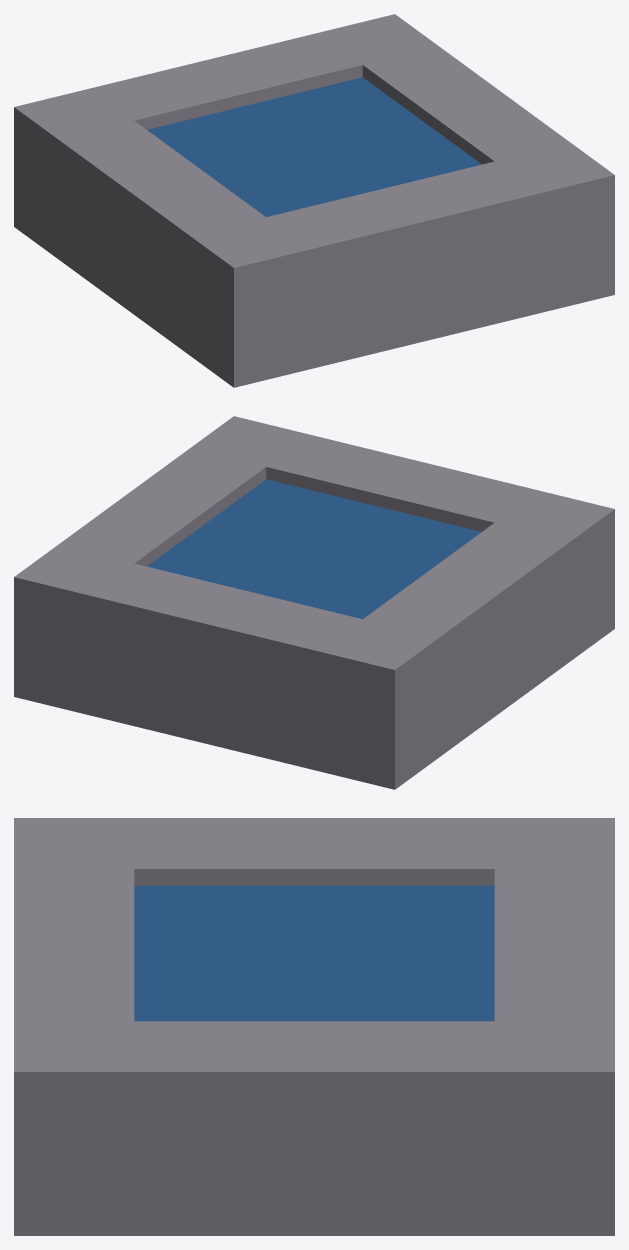
Rendered from Button_Trigger.fbx.
3 views of the same model, one above another, from view 1: azimuth 30°, elevation 25°; view 2: azimuth 150°, elevation 25°; view 3: azimuth 270°, elevation 25° (orthographic). The views are drawn at different scales.
Visible parts, largest first — view 1: Button_Trigger; view 2: Button_Trigger; view 3: Button_Trigger.
Boxes of the visible parts, x1=… form: Button_Trigger: x1=14, y1=14, x2=614, y2=387; Button_Trigger: x1=14, y1=416, x2=614, y2=789; Button_Trigger: x1=14, y1=818, x2=614, y2=1235.
Bounding box in the file's own units: 78.79 × 23.68 × 78.79.
